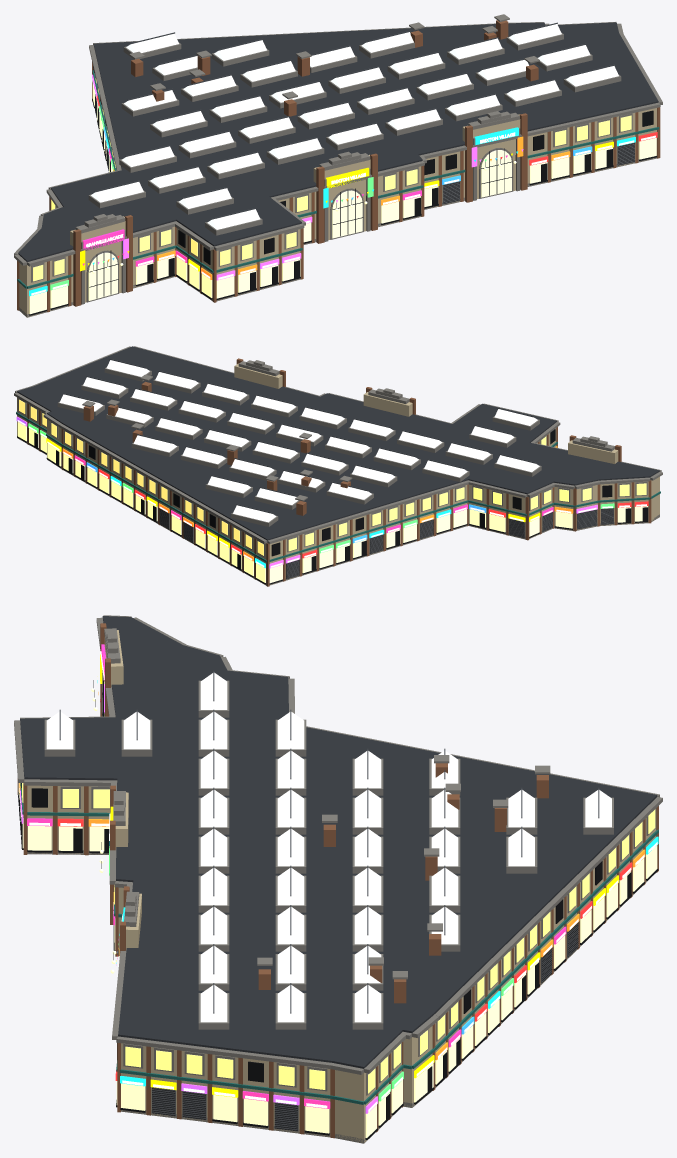
Rendered from brixton_village.glb.
3 views of the same model, one above another, from view 1: azimuth 30°, elevation 25°; view 2: azimuth 150°, elevation 25°; view 3: azimuth 270°, elevation 25° (orthographic). The views are drawn at different scales.
Visible parts, largest first — view 1: Roof, Concrete, Emit_RoofGlass, Render_Cream, Brick, Emit_Shop, Dark, Steel, Emit_Window, PaintBand, Emit_SignWhite, Emit_SignYellow (+5 smaller); view 2: Roof, Concrete, Emit_RoofGlass, Render_Cream, Brick, Emit_Shop, Dark, Emit_Window, Steel, Shutter, PaintBand, Emit_SignWhite (+3 smaller); view 3: Roof, Emit_RoofGlass, Concrete, Render_Cream, Brick, Emit_Shop, Dark, Emit_Window, PaintBand, Shutter, Steel, Emit_SignWhite (+2 smaller).
Boxes of the visible parts, bbox=[...] form: Roof: bbox=[18, 22, 658, 261]; Concrete: bbox=[14, 14, 662, 317]; Emit_RoofGlass: bbox=[91, 24, 618, 229]; Render_Cream: bbox=[19, 73, 656, 316]; Brick: bbox=[17, 20, 660, 312]; Emit_Shop: bbox=[29, 84, 656, 314]; Dark: bbox=[29, 66, 657, 315]; Steel: bbox=[94, 22, 614, 219]; Emit_Window: bbox=[33, 78, 631, 281]; PaintBand: bbox=[17, 70, 659, 288]; Emit_SignWhite: bbox=[31, 78, 655, 295]; Emit_SignYellow: bbox=[80, 141, 613, 271]; Roof: bbox=[17, 346, 659, 540]; Concrete: bbox=[14, 346, 662, 585]; Emit_RoofGlass: bbox=[59, 360, 539, 522]; Render_Cream: bbox=[17, 363, 659, 585]; Brick: bbox=[27, 358, 651, 586]; Emit_Shop: bbox=[17, 422, 647, 583]; Dark: bbox=[17, 429, 648, 584]; Emit_Window: bbox=[19, 399, 646, 555]; Steel: bbox=[63, 359, 536, 513]; Shutter: bbox=[159, 508, 613, 579]; PaintBand: bbox=[16, 411, 660, 562]; Emit_SignWhite: bbox=[17, 420, 646, 567]; Roof: bbox=[20, 616, 657, 1068]; Emit_RoofGlass: bbox=[46, 672, 611, 1022]; Concrete: bbox=[14, 615, 662, 1143]; Render_Cream: bbox=[23, 630, 656, 1142]; Brick: bbox=[17, 623, 658, 1138]; Emit_Shop: bbox=[18, 681, 657, 1137]; Dark: bbox=[18, 676, 658, 1139]; Emit_Window: bbox=[22, 783, 655, 1093]; PaintBand: bbox=[20, 783, 658, 1104]; Shutter: bbox=[151, 922, 578, 1131]; Steel: bbox=[59, 670, 599, 1013]; Emit_SignWhite: bbox=[18, 651, 657, 1112].
Bounding box in the file's own units: 105 × 11.6 × 63.25.
